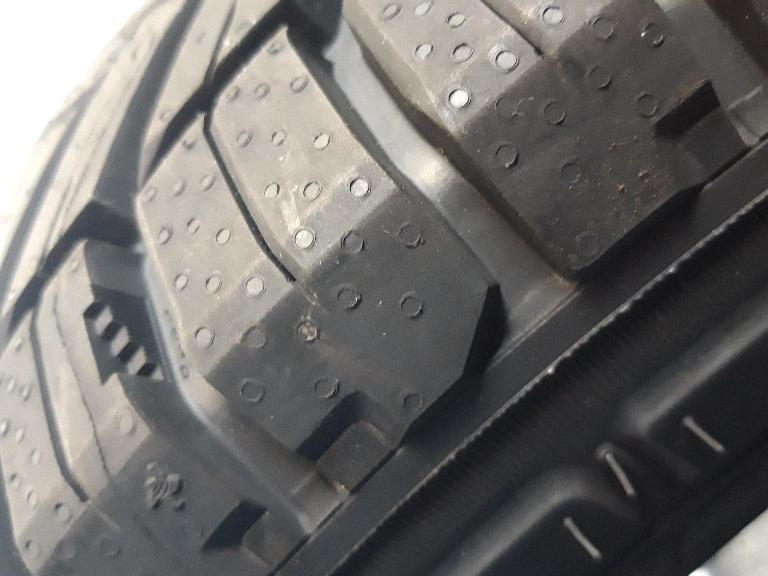temoin:100: (80, 281, 174, 390)
